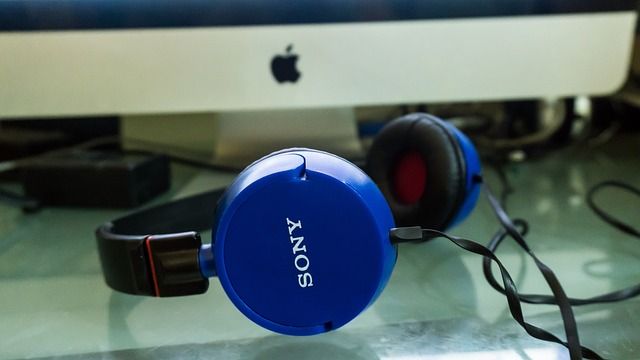headphones: (95, 113, 486, 337)
